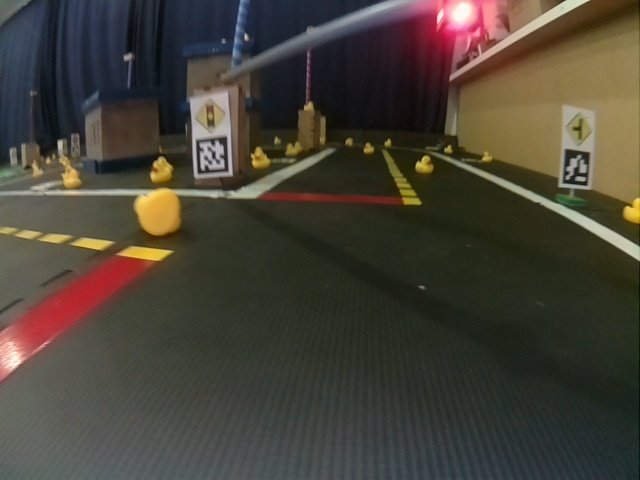Duckie: (134, 188, 182, 236), (622, 197, 639, 223), (150, 161, 171, 180), (251, 151, 269, 166), (416, 156, 432, 171), (363, 142, 373, 152), (345, 137, 354, 146), (482, 151, 490, 161), (384, 137, 392, 147), (444, 146, 453, 154)
Intersection sign: (563, 111, 593, 146)
QR code: (193, 136, 231, 174), (562, 149, 591, 187)
Signal sign: (193, 97, 227, 130)
Traffic light: (436, 3, 483, 33)
